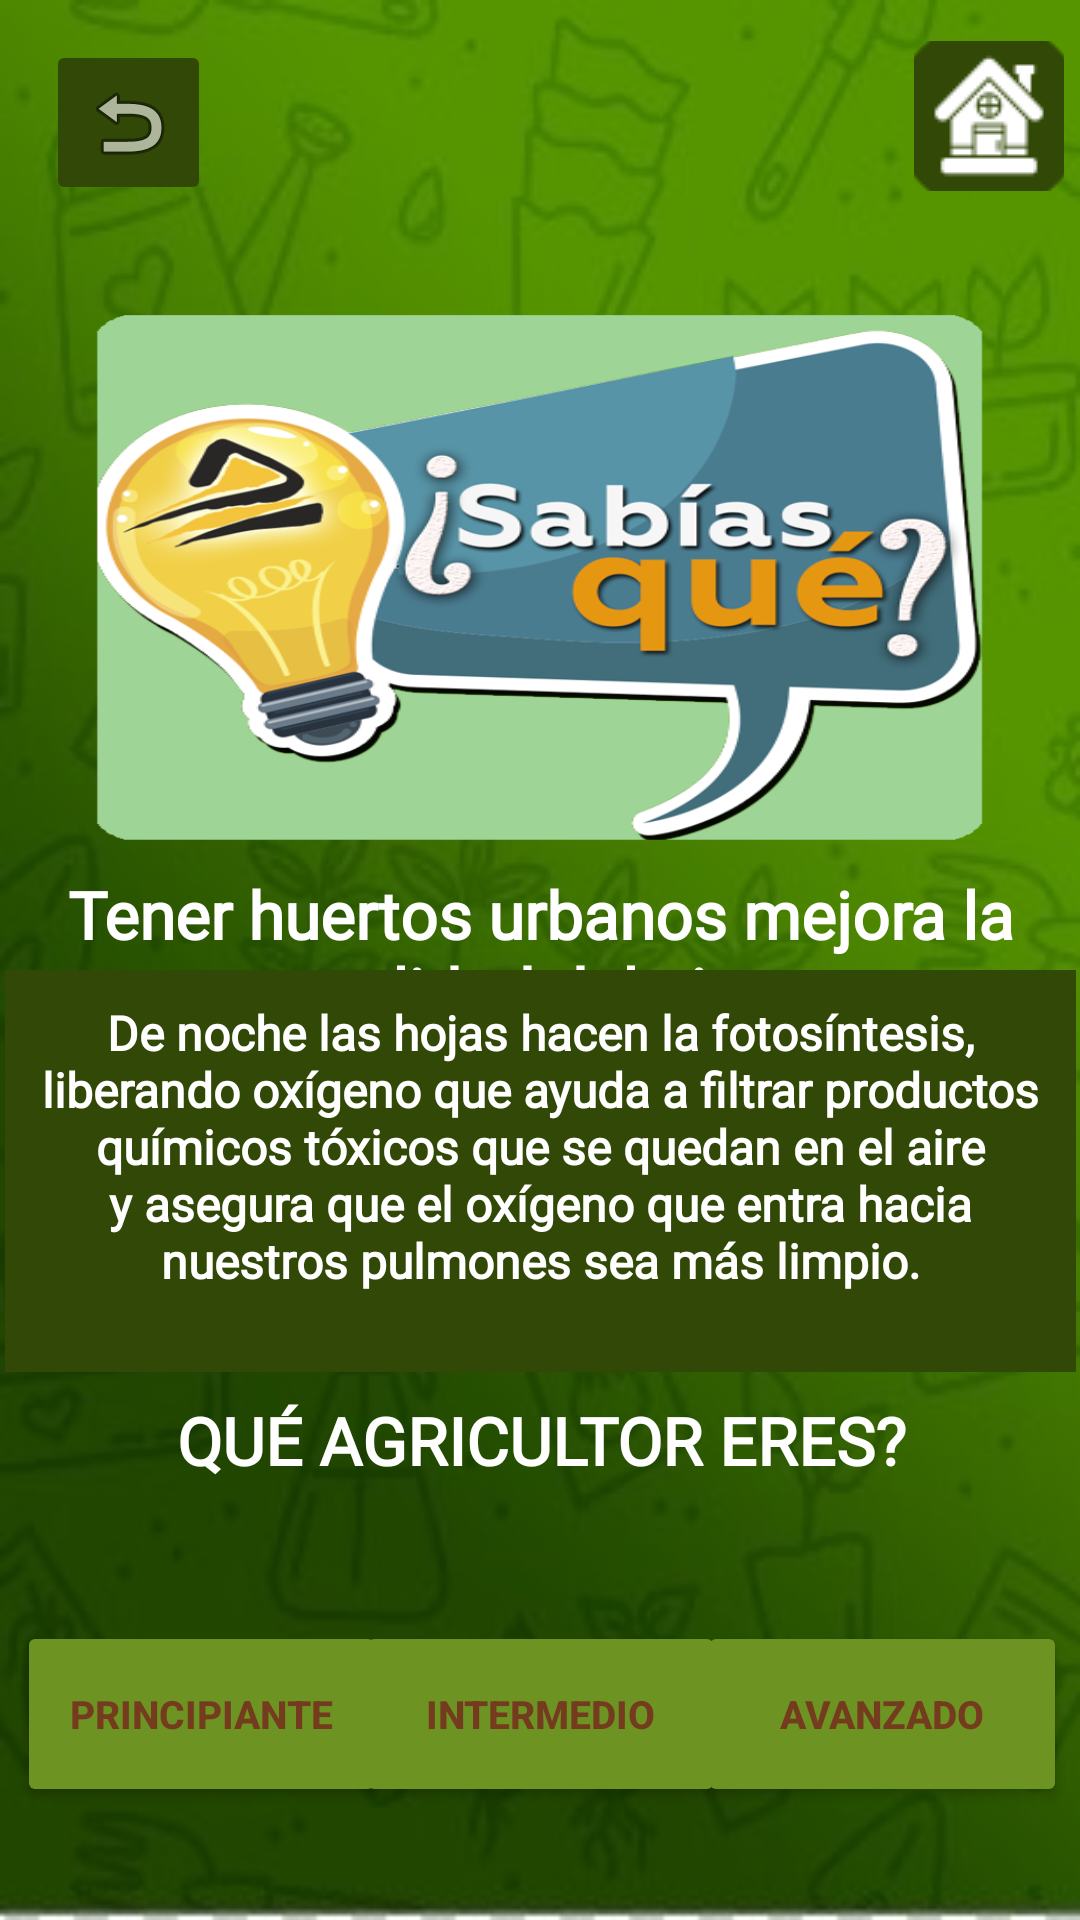

Named icons in this screenshot (1080×1920) and their centers, (x,y):
Home: (989,116)
Regresar: (123,131)
